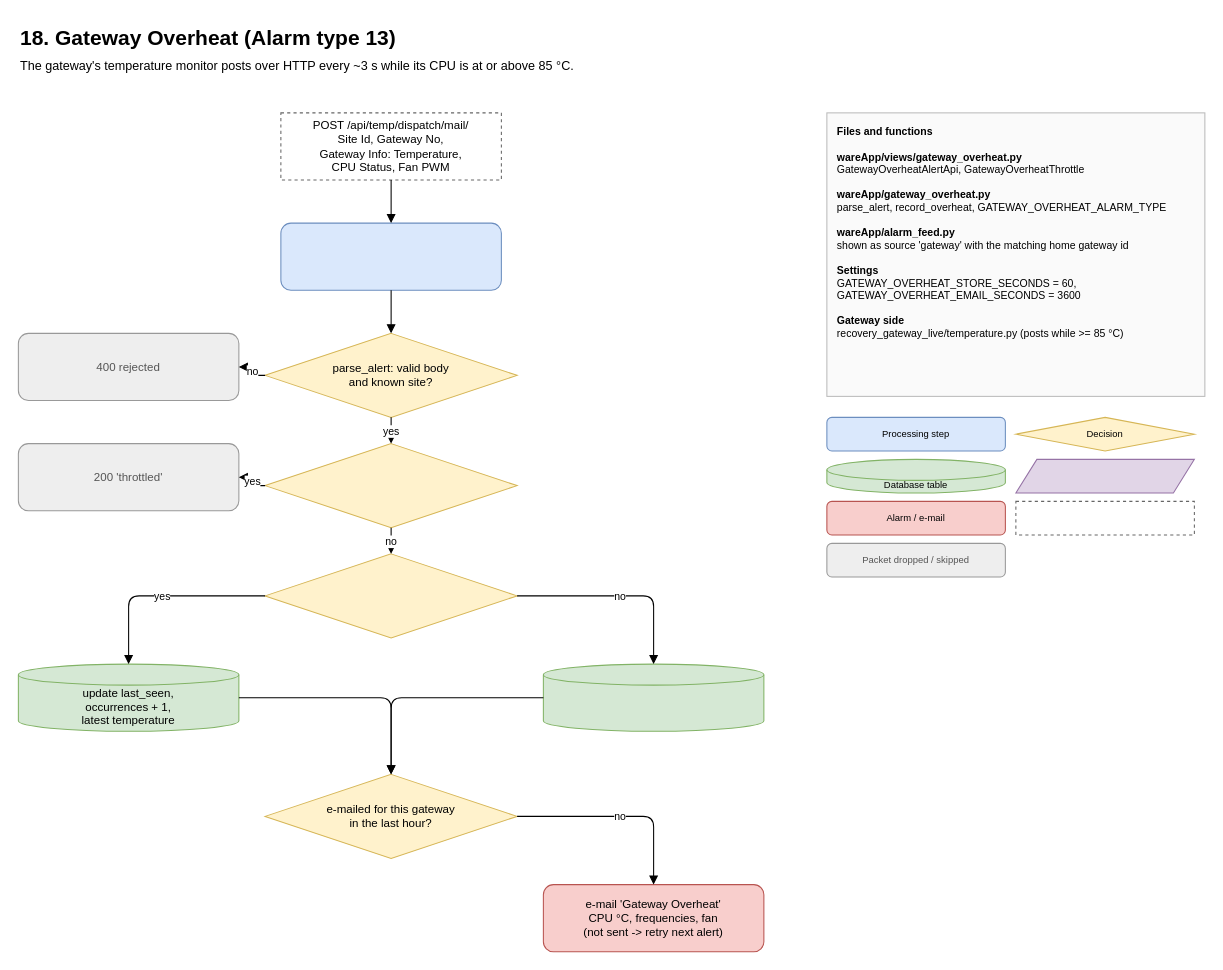
The diagram is 1223 pixels wide and 970 high, and some of its shapes have lost their labels. The shapes that lost their labels are listed below. From the top down, each one's centre as x and y in pixels, then its label:
At (390,256): "rate limit 60 / min per client".
At (390,485): "stored for this gateway in last 60 s?".
At (1104,475): "RabbitMQ queue / MQTT topic".
At (1104,517): "External: gateway, broker, timer".
At (390,595): "alarm for this gateway already today?".
At (653,697): "AlarmNotifications type 13 object_type gateway, object_id = gateway no.".
